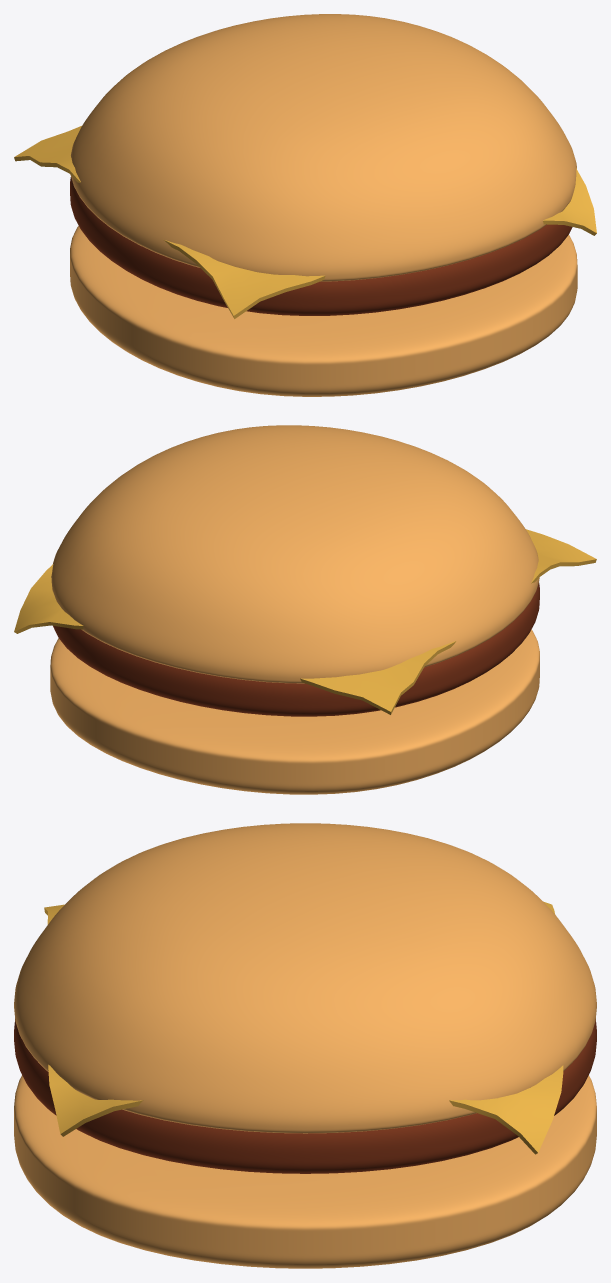
The model's file is hamburger.glb.
The picture shows the model from 3 angles, top to bottom: view 1: azimuth 30°, elevation 25°; view 2: azimuth 150°, elevation 25°; view 3: azimuth 270°, elevation 25°; orthographic projection. The views are drawn at different scales.
Parts seen in each view (by area): view 1: Cube.002, Cube, Cube.001, Plane; view 2: Cube.002, Cube, Cube.001, Plane; view 3: Cube.002, Cube, Cube.001, Plane.
Part boxes in pixels (x1,y1,x2,y2): Cube.002: (70, 14, 576, 281); Cube: (70, 226, 577, 396); Cube.001: (70, 177, 572, 315); Plane: (14, 126, 596, 318); Cube.002: (51, 425, 539, 683); Cube: (50, 629, 539, 794); Cube.001: (53, 583, 539, 716); Plane: (14, 529, 596, 714); Cube.002: (14, 823, 596, 1133); Cube: (14, 1075, 596, 1268); Cube.001: (14, 1019, 596, 1173); Plane: (44, 901, 563, 1154).
Size of the model in its own units: 9.1 by 5.06 by 9.1.
